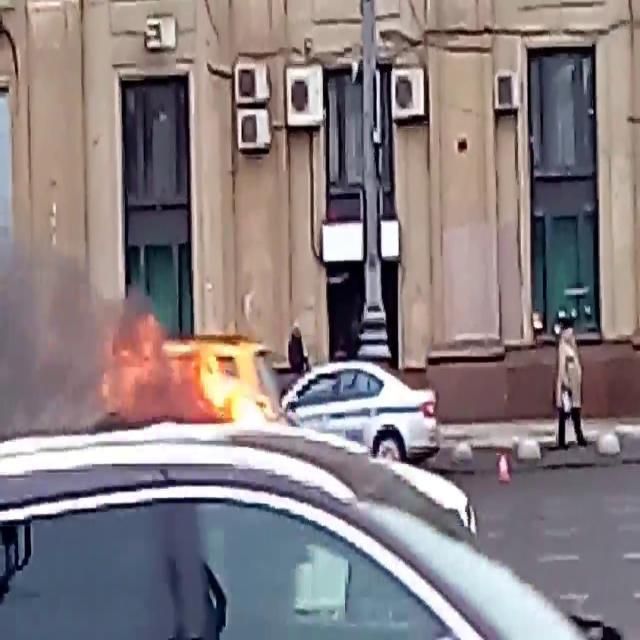Fire: (103, 312, 282, 430)
Smoke: (0, 206, 120, 438)
